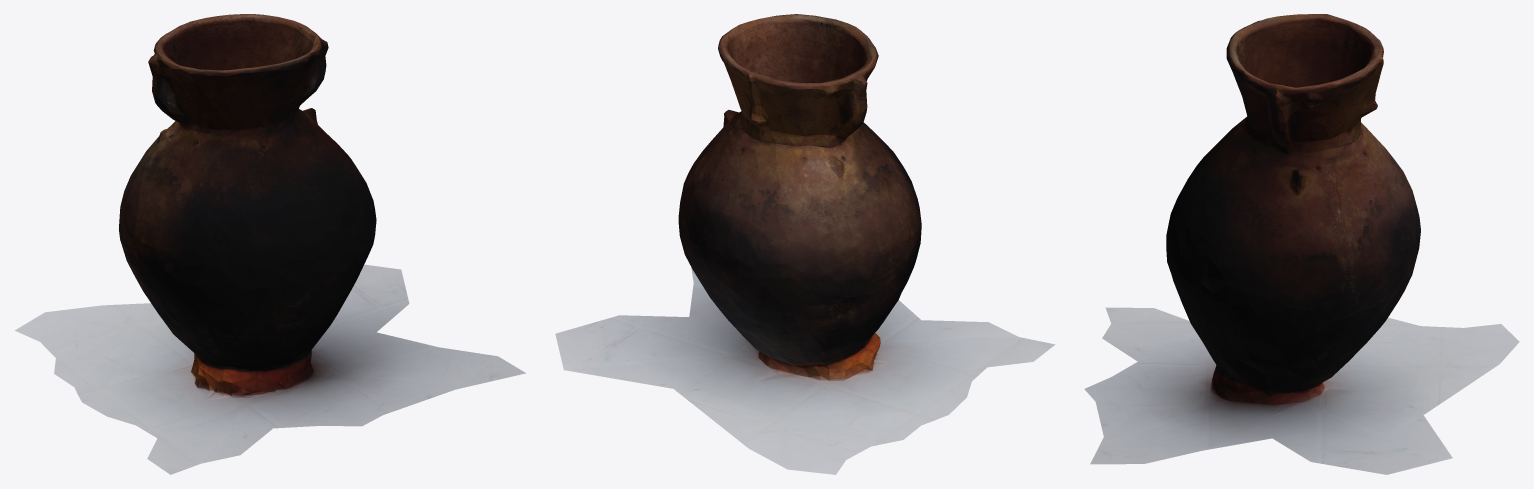
The model's file is 4-vasija1final.glb.
3 renders of one model, left to right at view 1: azimuth 30°, elevation 25°; view 2: azimuth 150°, elevation 25°; view 3: azimuth 270°, elevation 25°, orthographic. The views are drawn at different scales.
Parts seen in each view (by area): view 1: Mesh_1, Mesh_0, Mesh_2; view 2: Mesh_1, Mesh_2, Mesh_0; view 3: Mesh_1, Mesh_0, Mesh_2.
Part boxes in pixels (box(x1,y1,x2,y2)): Mesh_1: box(119, 15, 376, 305); Mesh_0: box(82, 236, 437, 474); Mesh_2: box(15, 14, 525, 426); Mesh_1: box(678, 36, 921, 327); Mesh_2: box(691, 14, 948, 474); Mesh_0: box(555, 272, 1055, 447); Mesh_1: box(1166, 14, 1420, 320); Mesh_0: box(1085, 263, 1498, 474); Mesh_2: box(1084, 26, 1519, 464).
Bounding box in the file's own units: 1.97 × 1.7 × 1.93.
3 materials, 3 textured.
